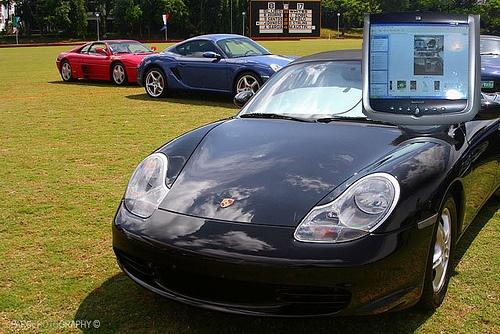tampered: (362, 11, 481, 146)
